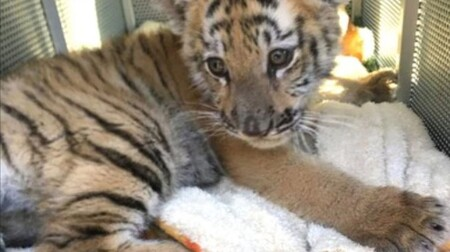Tigrew: (8, 6, 432, 238)
